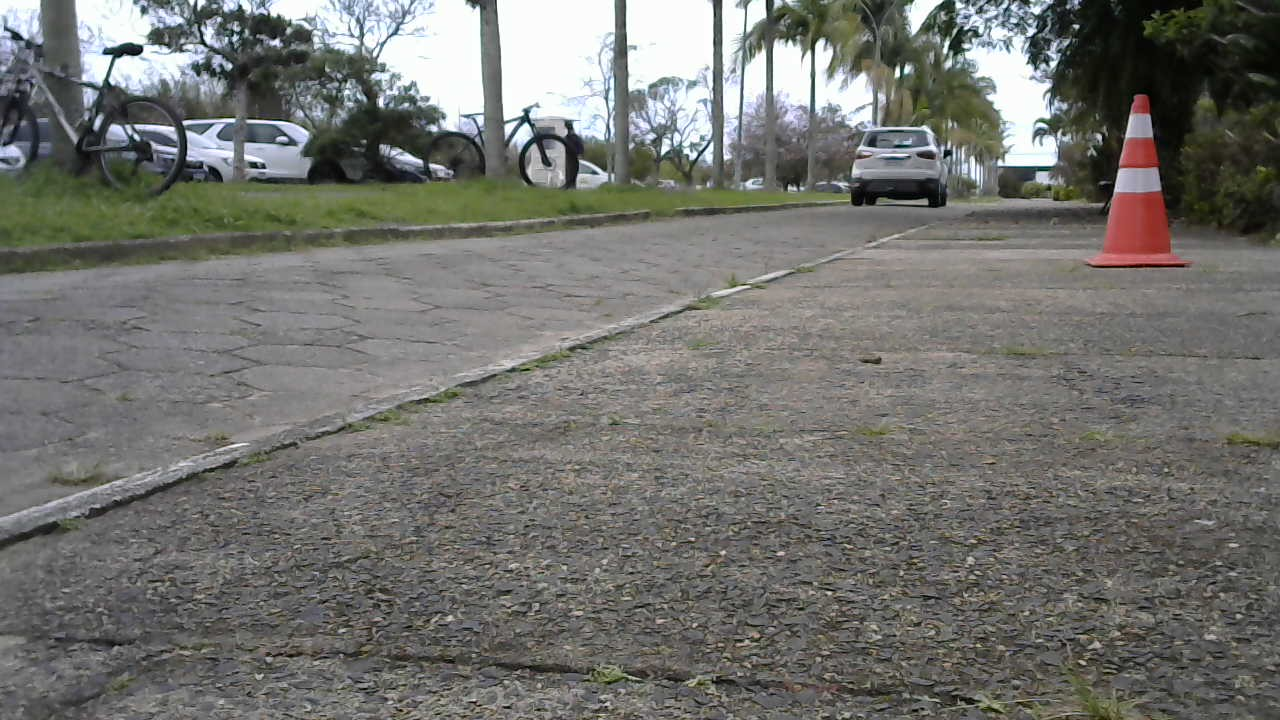cone: (1089, 89, 1186, 276)
